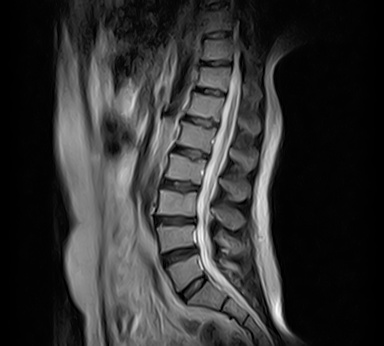L1,v2: (175, 125, 214, 148)
L1-L2,v5: (170, 141, 209, 164)
L2,v2: (166, 157, 205, 180)
L2-L3,v2: (161, 175, 200, 198)
L2-L3,v5: (161, 175, 200, 198)
L3,v2: (157, 192, 196, 215)
L3-L4,v3: (155, 208, 194, 231)
L4,v2: (155, 225, 194, 248)
L4-L5,v3: (160, 242, 199, 265)
L5,v1: (166, 260, 205, 283)
L5-S1,v1: (173, 275, 212, 298)
T12-L1,v5: (179, 110, 218, 133)
